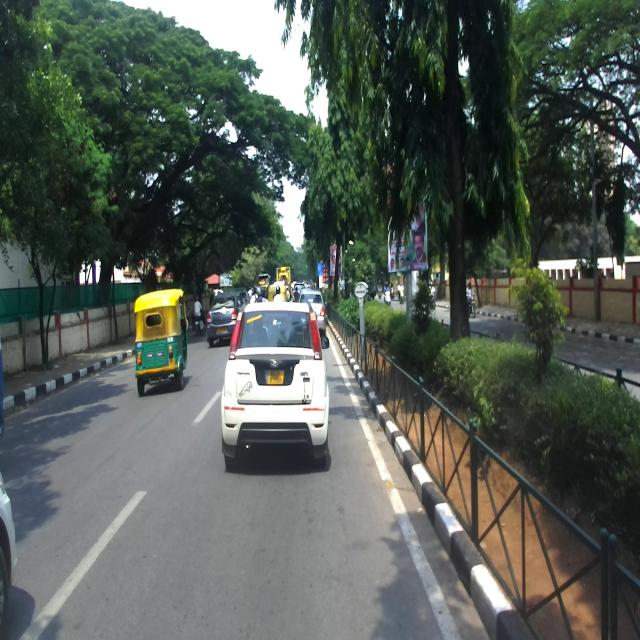autorickshaw: (133, 287, 187, 396)
car: (220, 299, 330, 472)
